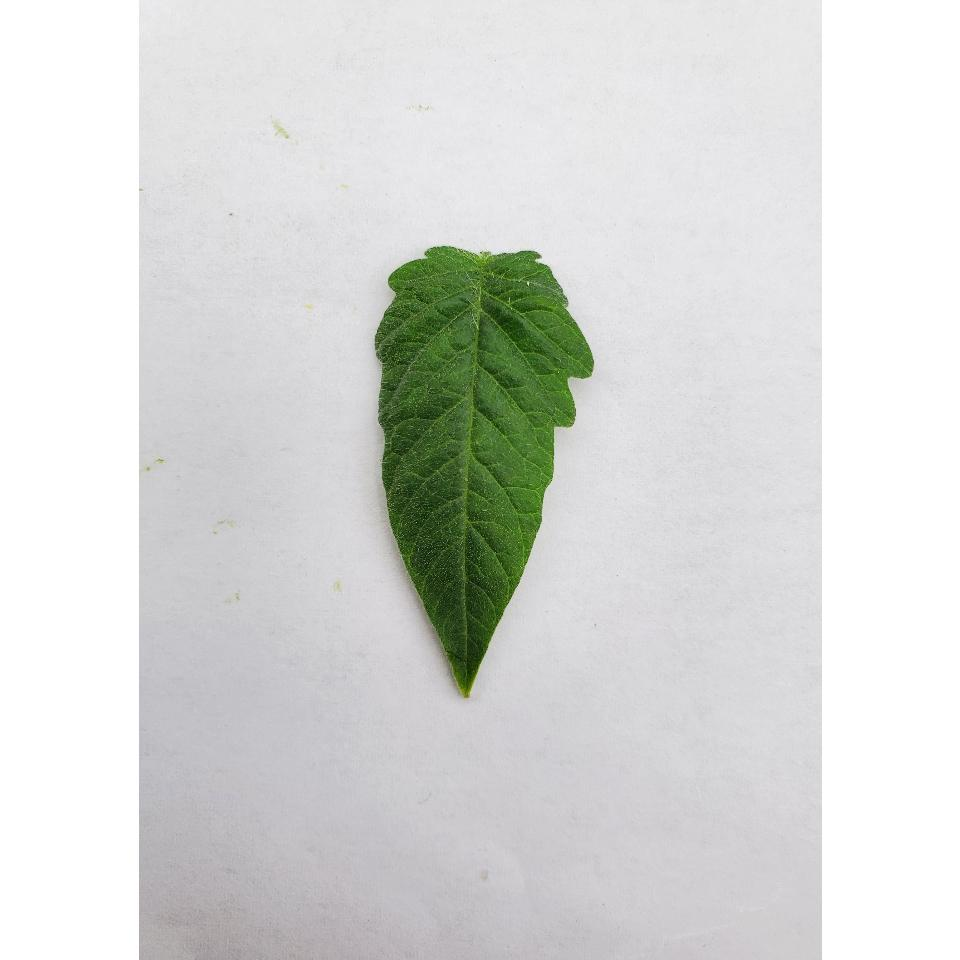tomato_leaves: (382, 238, 592, 696)
